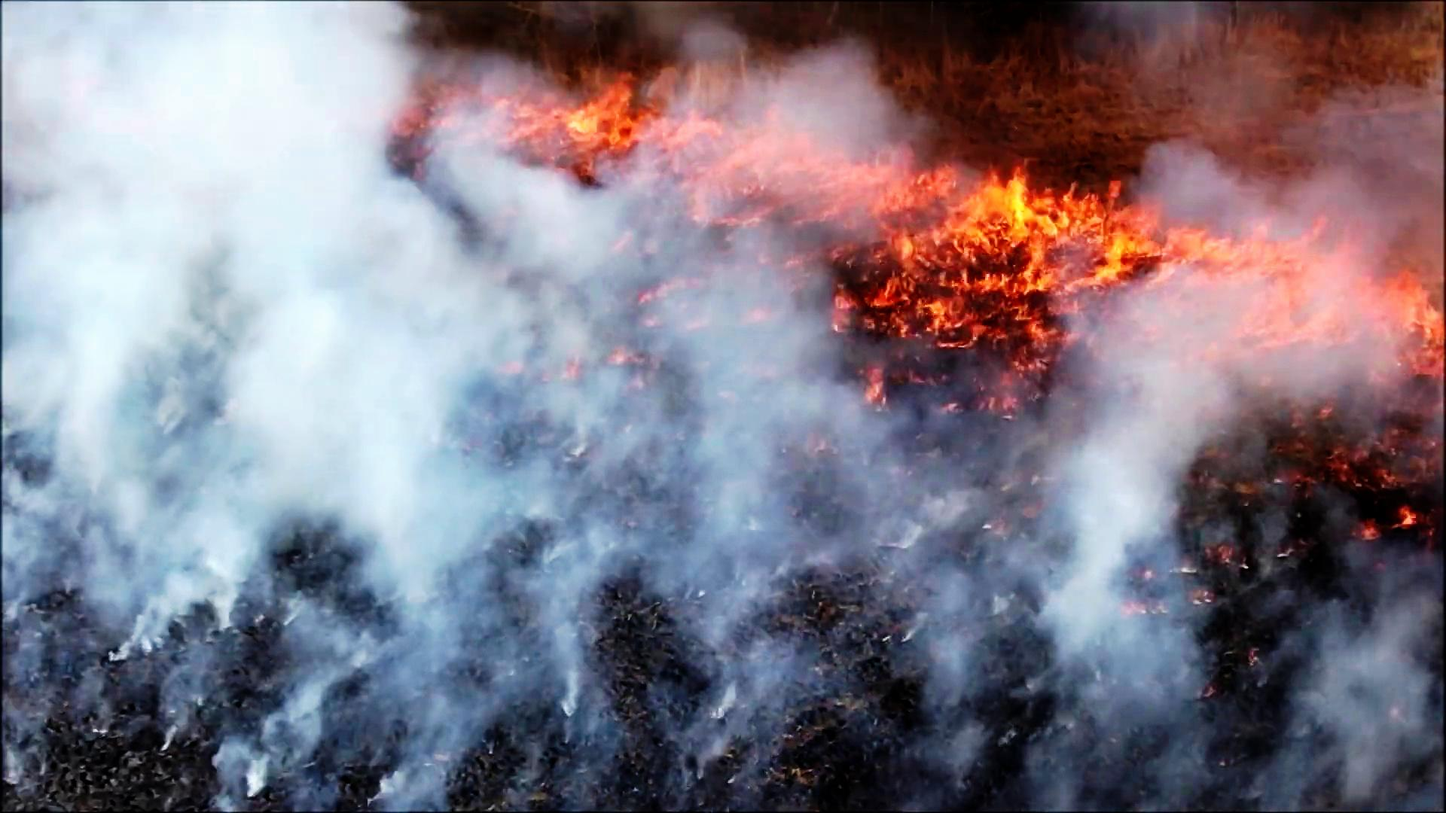fire: (817, 139, 1175, 361), (538, 72, 836, 245), (1190, 222, 1446, 376)
smoke: (0, 0, 614, 798), (1043, 245, 1228, 813), (1269, 478, 1446, 813)
